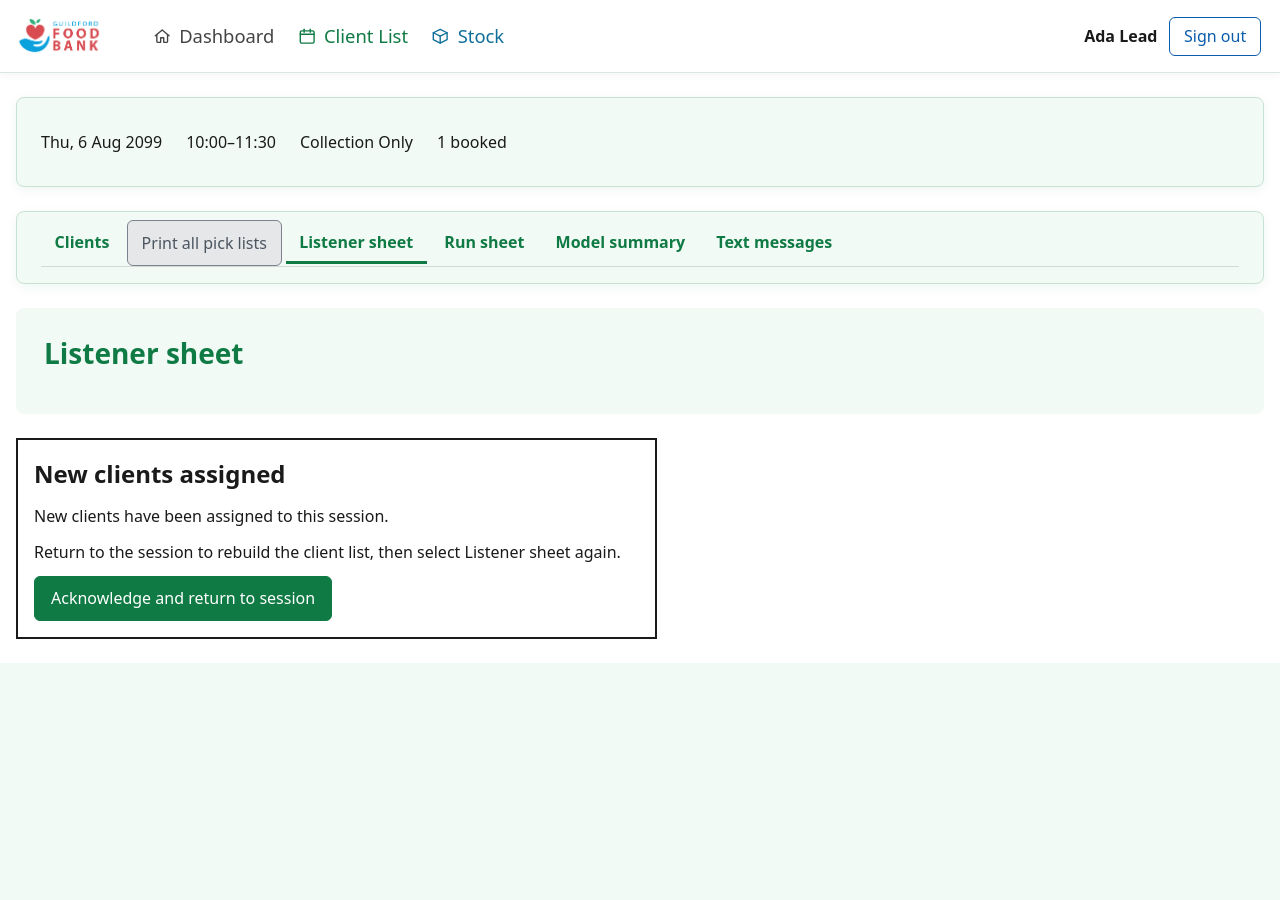
Test: a team lead listener sheet › refreshes the client list before returning to rebuild pick lists after new clients are acknowledged
Check: the heading "New clients assigned" is shown, box [34, 457, 286, 490]
Check: the text "New clients have been assigned to this session." is shown, box [34, 505, 389, 527]
Click the button "Acknowledge and return to session": (183, 598) [34, 576, 332, 621]
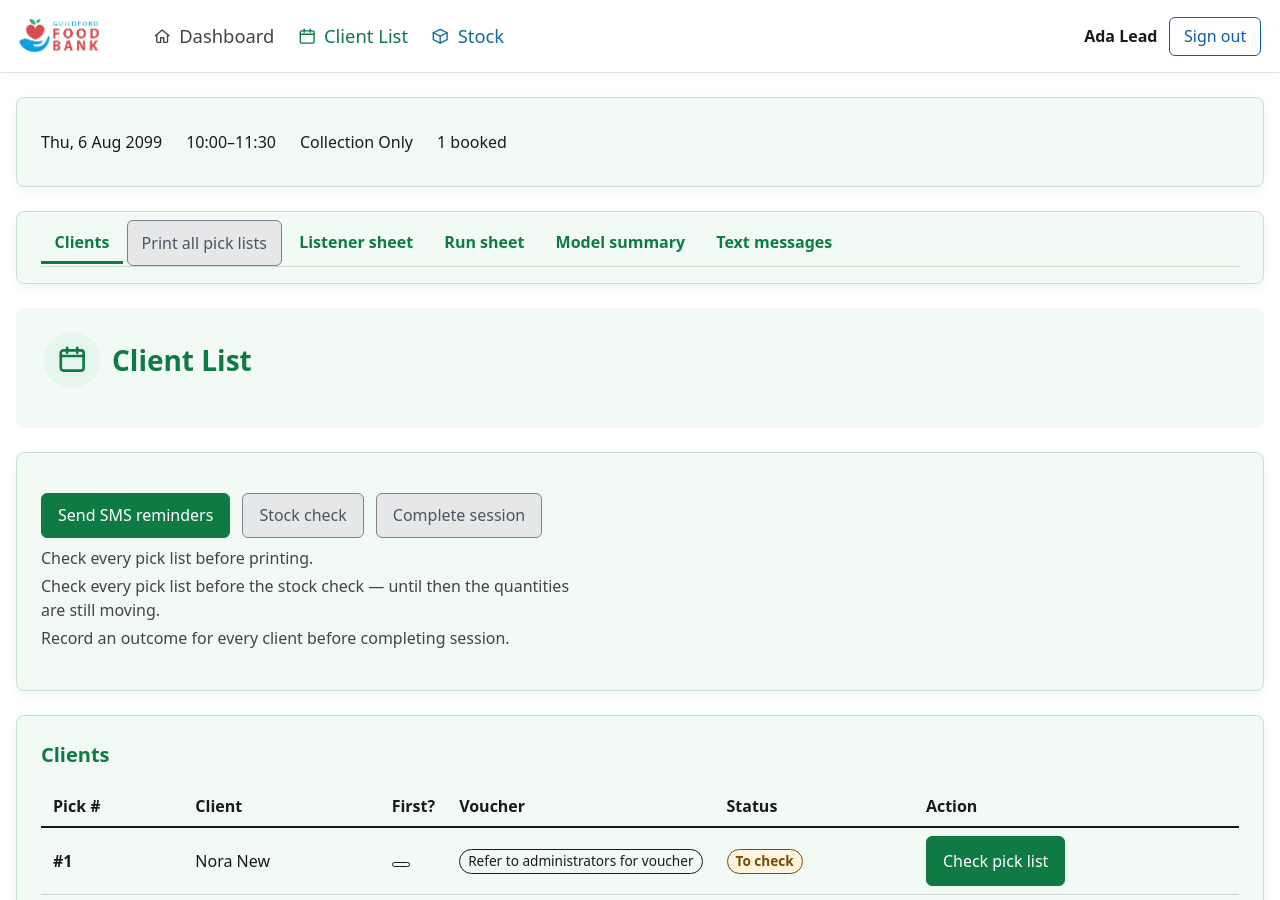
Check: the row that starts with "Nora New" is shown, box [41, 828, 1239, 895]
